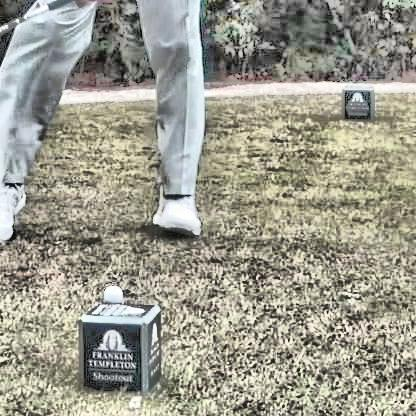golfball: (98, 280, 123, 302)
